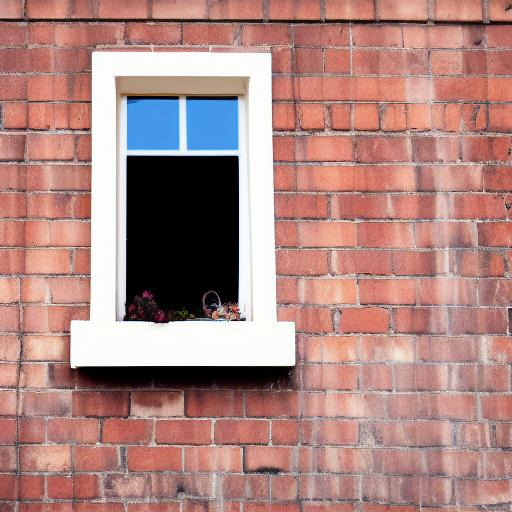Window: (70, 47, 298, 372)
